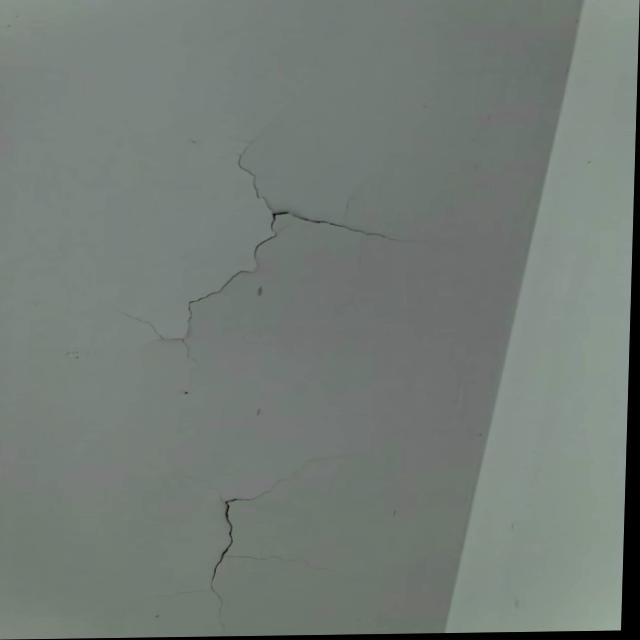crack: (118, 139, 433, 367), (200, 453, 332, 619)
